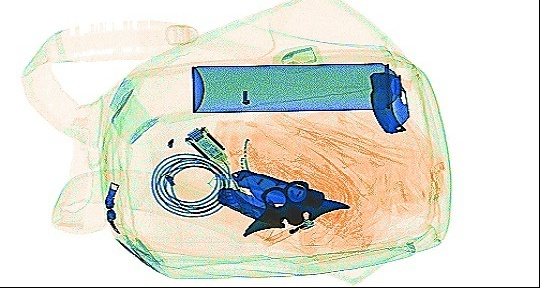knife: (229, 166, 324, 209), (215, 181, 283, 226), (367, 69, 410, 133)
lighter: (259, 216, 314, 247)
pressure: (189, 60, 412, 113)
